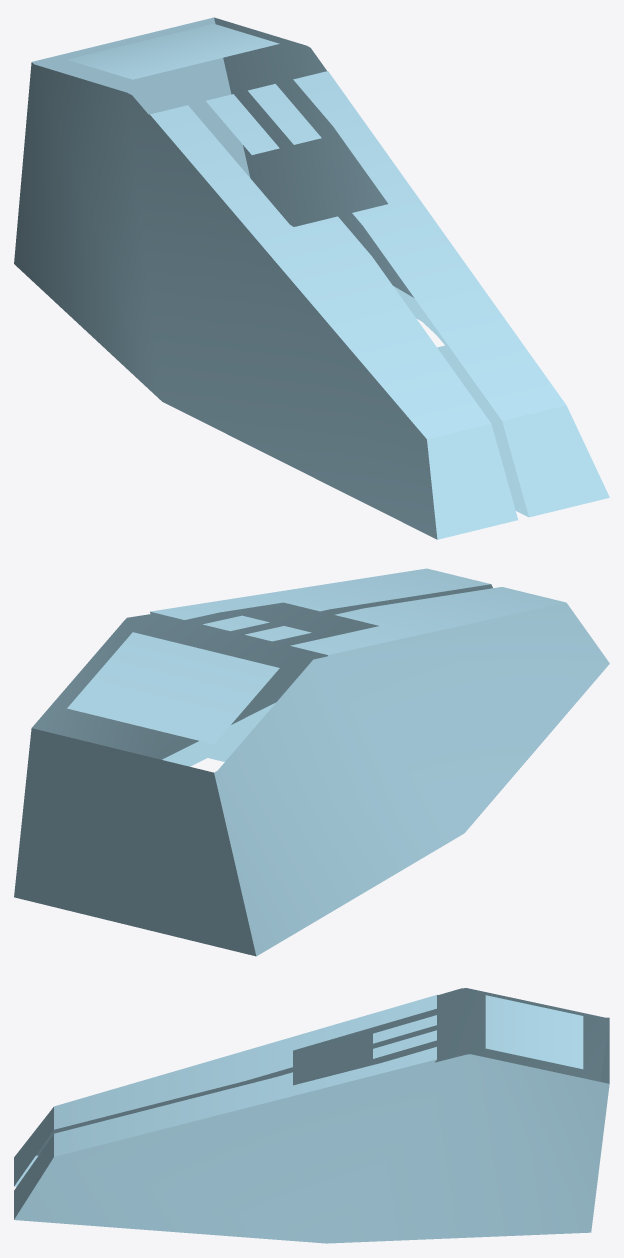
File: C_GH_Feet_F1.FBX
3 renders of one model, top to bottom at view 1: azimuth 30°, elevation 25°; view 2: azimuth 150°, elevation 25°; view 3: azimuth 270°, elevation 25°, orthographic. The views are drawn at different scales.
Parts seen in each view (by area): view 1: RightFoot; view 2: RightFoot; view 3: RightFoot.
Part boxes in pixels (x1=…): RightFoot: x1=14, y1=17, x2=609, y2=539; RightFoot: x1=14, y1=568, x2=609, y2=956; RightFoot: x1=14, y1=988, x2=609, y2=1243.
Bounding box in the file's own units: 8.3 × 6.02 × 19.07.
1 material, 1 textured.
